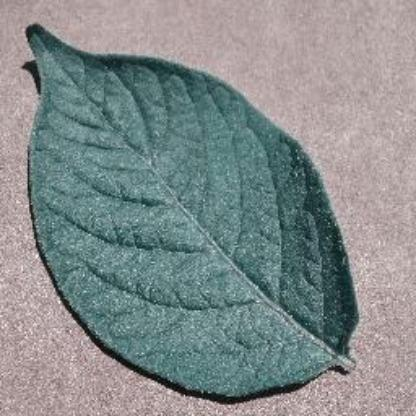Healthy-plant: (17, 20, 367, 400)
